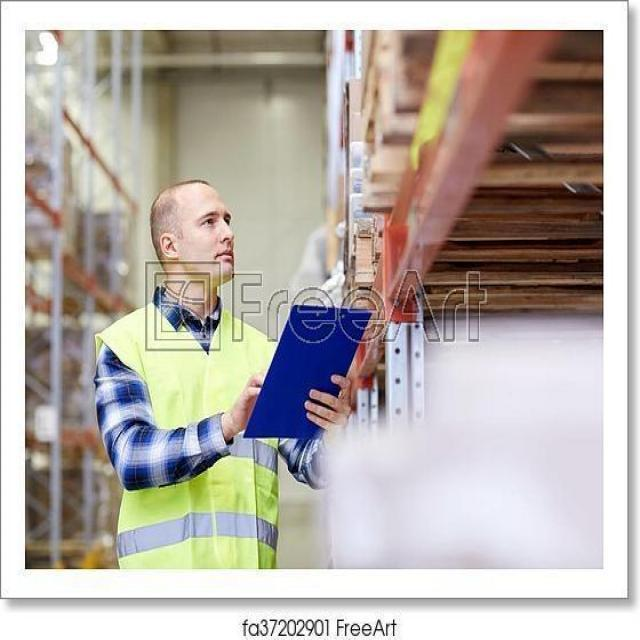no-helmet: (150, 179, 238, 251)
vest: (90, 292, 289, 570)
